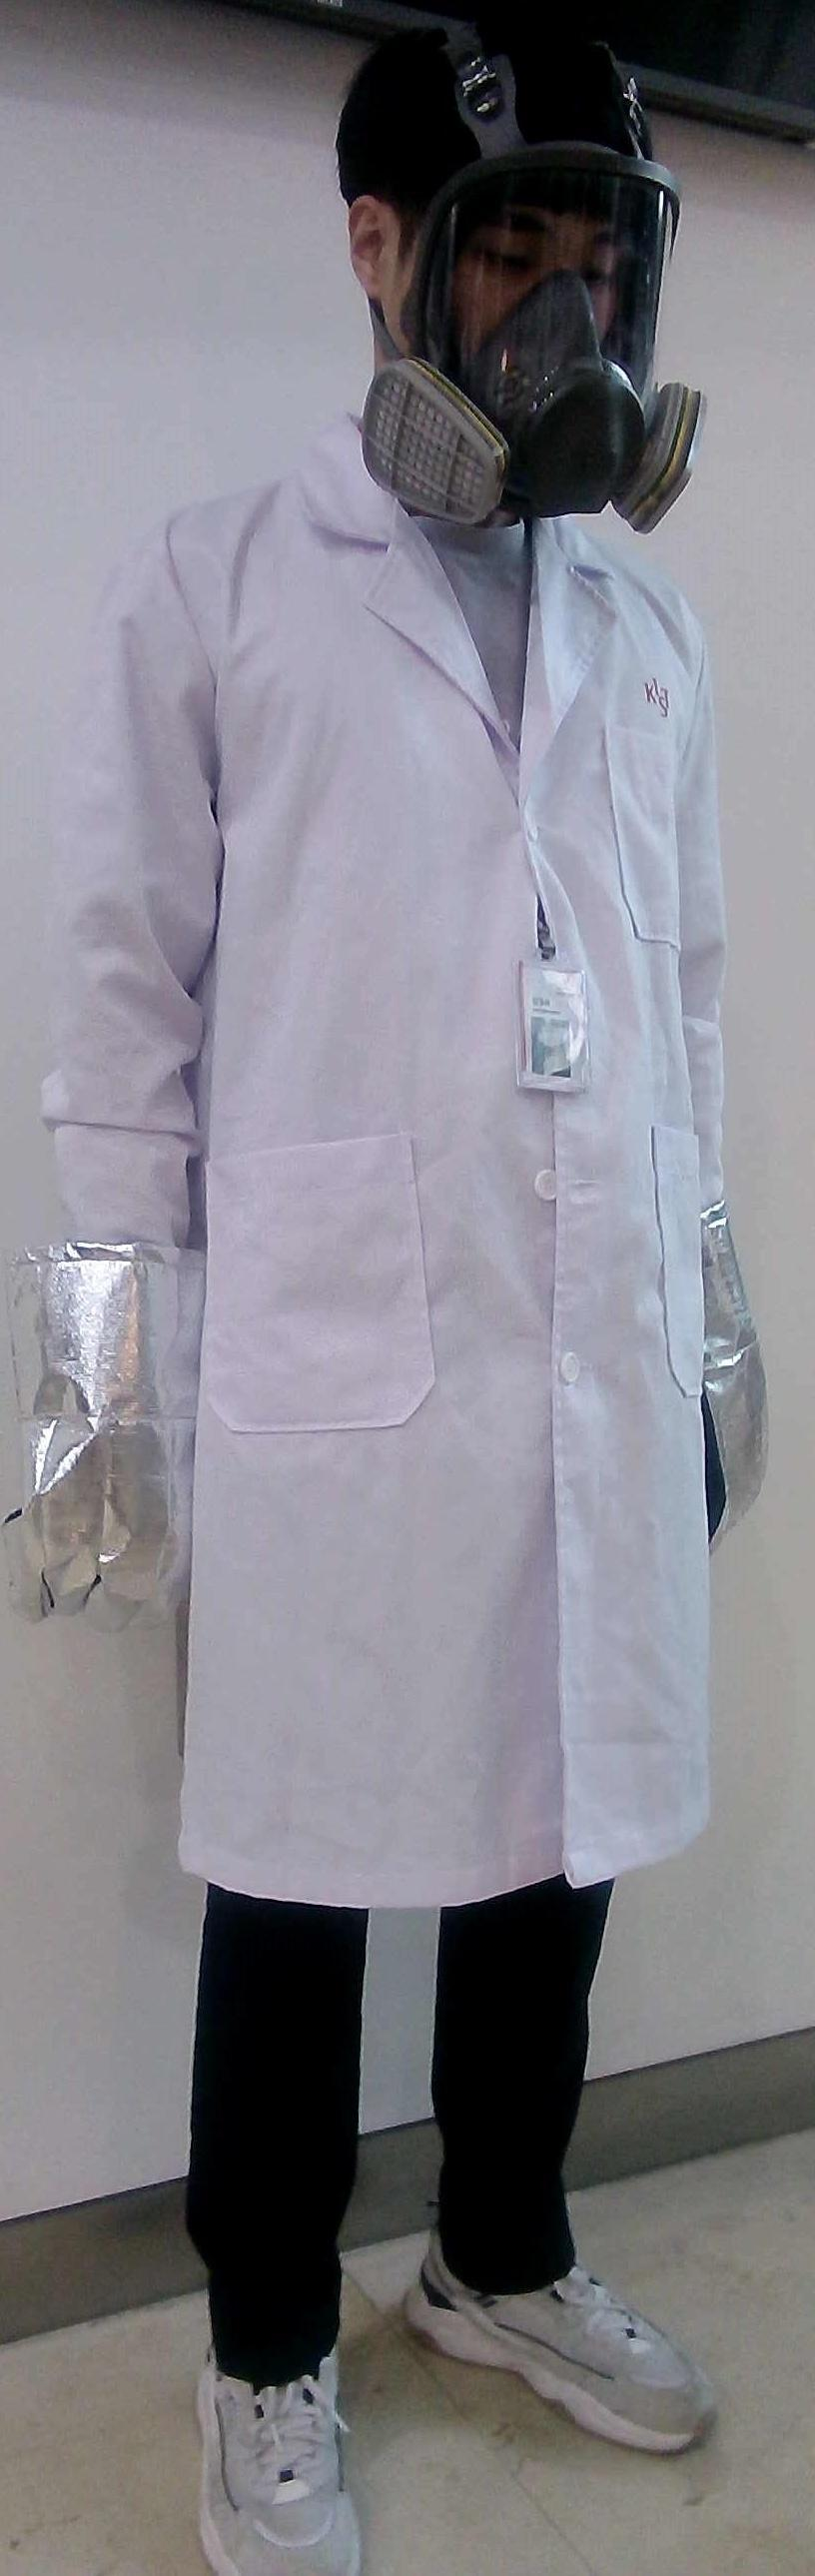lab_coat: (161, 491, 703, 1881)
